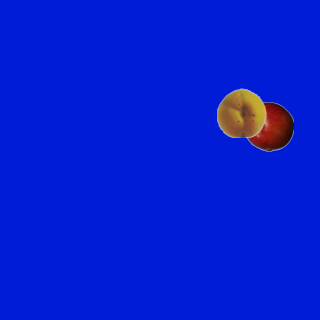Apple Braeburn: (243, 101, 293, 151)
Peach 2: (216, 87, 266, 137)
